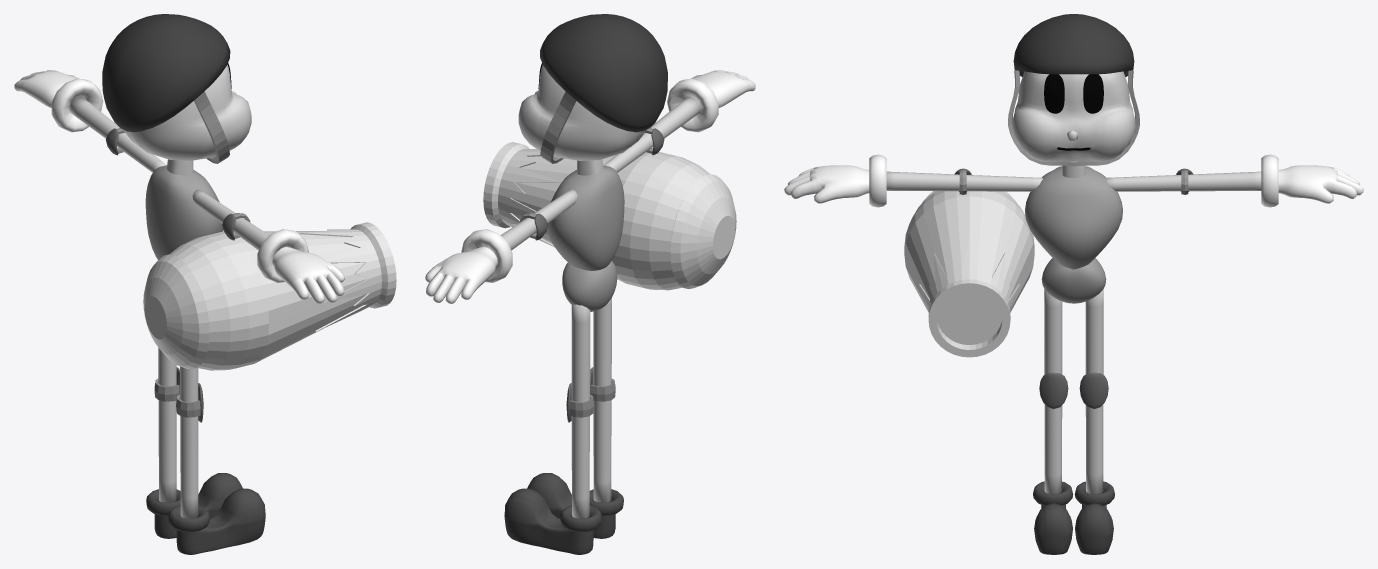
File: Personaje.fbx
3 views of the same model, side by side, from view 1: azimuth 30°, elevation 25°; view 2: azimuth 150°, elevation 25°; view 3: azimuth 270°, elevation 25° (orthographic). The views are drawn at different scales.
Visible parts, largest first — view 1: CARNES.009, Círculo.002; view 2: CARNES.009, Círculo.002; view 3: CARNES.009, Círculo.002.
Part boxes in pixels (bbox=[...]): CARNES.009: bbox=[14, 14, 344, 554]; Círculo.002: bbox=[143, 222, 396, 370]; CARNES.009: bbox=[425, 14, 755, 554]; Círculo.002: bbox=[483, 142, 736, 290]; CARNES.009: bbox=[784, 14, 1363, 554]; Círculo.002: bbox=[904, 191, 1034, 357].
Bounding box in the file's own units: 154 × 353 × 370.
